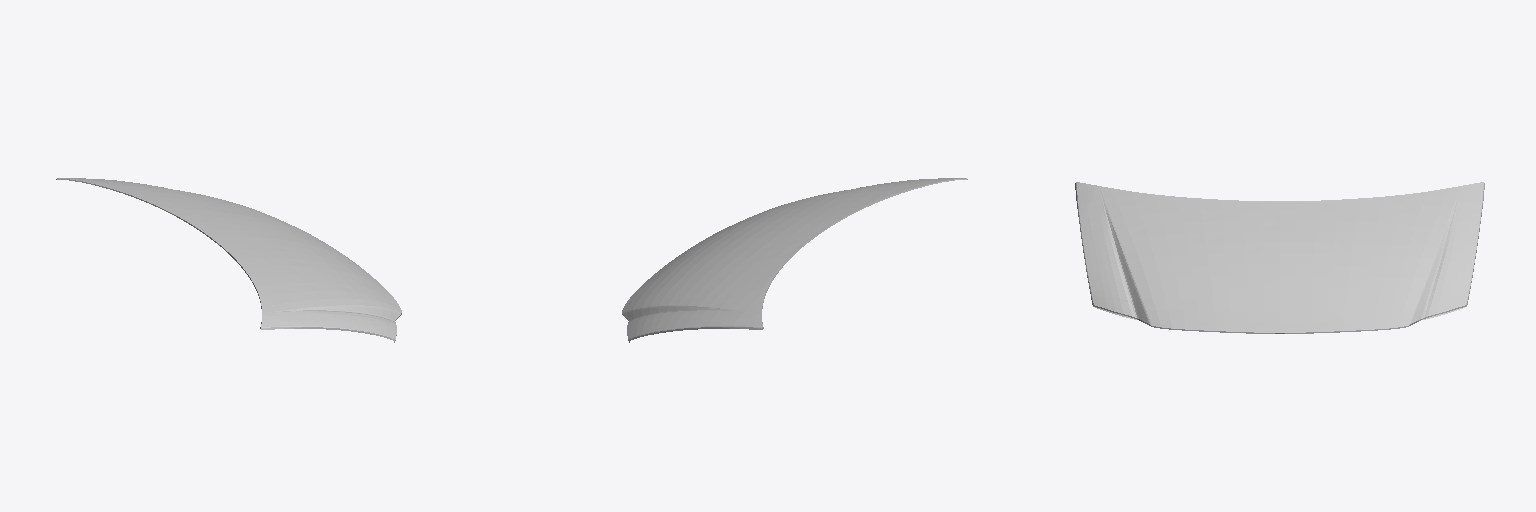
The picture shows the model from 3 angles: view 1: azimuth 30°, elevation 25°; view 2: azimuth 150°, elevation 25°; view 3: azimuth 270°, elevation 25°; orthographic projection.
Parts seen in each view (by area): view 1: N664_9A_101B_C_1_DaS_N664_9A_101B_C; view 2: N664_9A_101B_C_1_DaS_N664_9A_101B_C; view 3: N664_9A_101B_C_1_DaS_N664_9A_101B_C, N664_9A_101B_C_1_DaS_N664_9A_101B_C_E.
Boxes of the visible parts, x1,y1,x2,y2 form: N664_9A_101B_C_1_DaS_N664_9A_101B_C: [58, 178, 401, 340]; N664_9A_101B_C_1_DaS_N664_9A_101B_C: [622, 178, 965, 340]; N664_9A_101B_C_1_DaS_N664_9A_101B_C: [1075, 182, 1484, 332]; N664_9A_101B_C_1_DaS_N664_9A_101B_C_E: [1076, 183, 1483, 333].
Size of the model in its own units: 84.96 by 26.28 by 154.